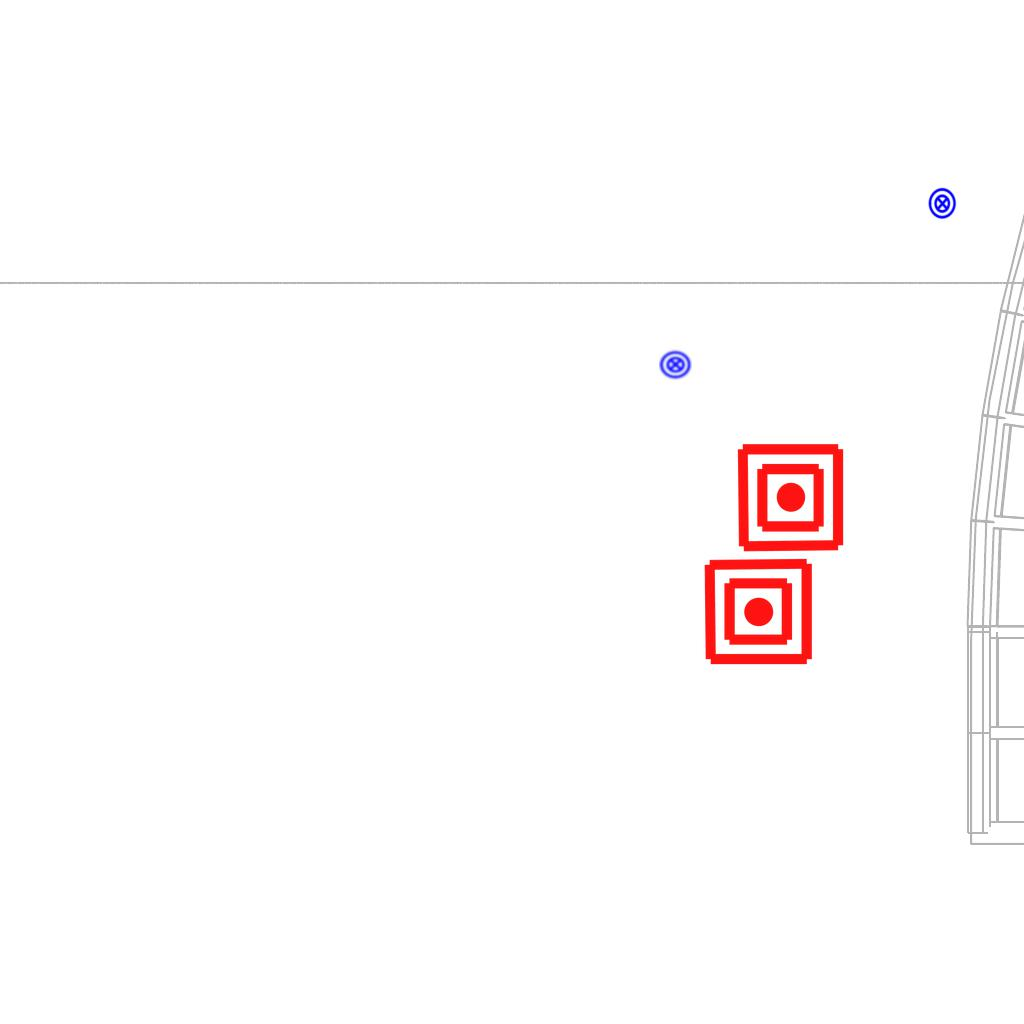NAM-Nichtautomatischer_Melder: (702, 555, 815, 668), (734, 441, 847, 554)
Taster_beleuchtet: (926, 187, 959, 220), (659, 348, 692, 381)
